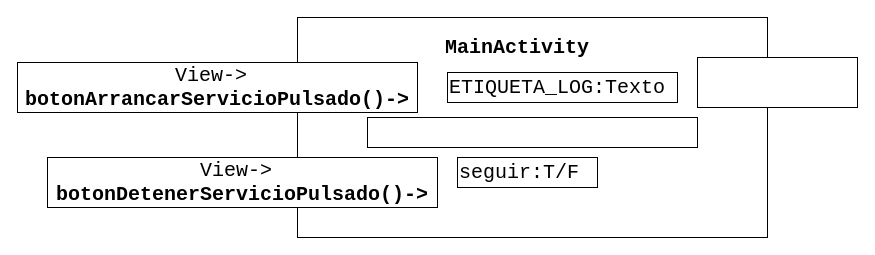
Some shapes in this 875 by 255 pixel diagram are drawn without their labels. Each missing label, with the centre of its shape:
"Bundle-> <-onCreate()" goes at point (777, 82).
"elIntentDelServicio:Intent" goes at point (532, 132).
